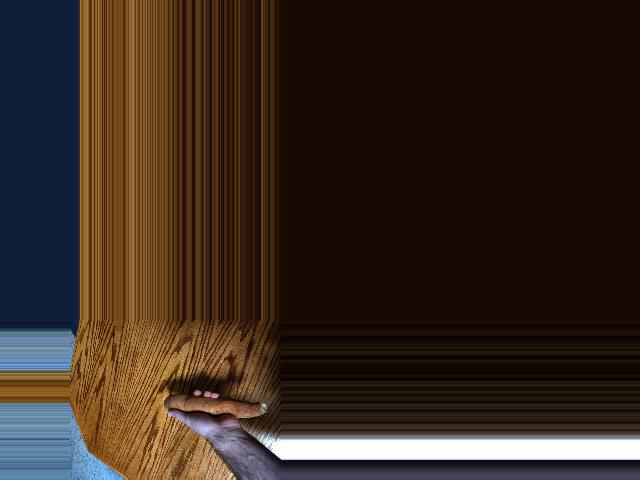sweet_potato: (163, 392, 270, 426)
